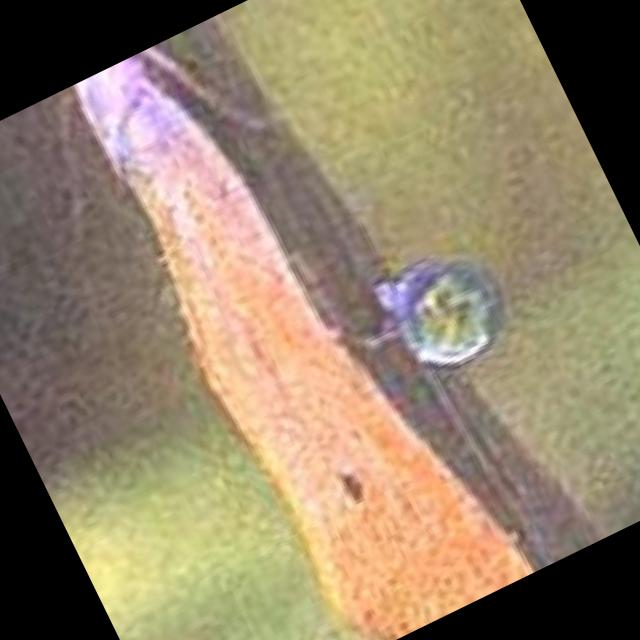stem-borer: (58, 1, 524, 640)
